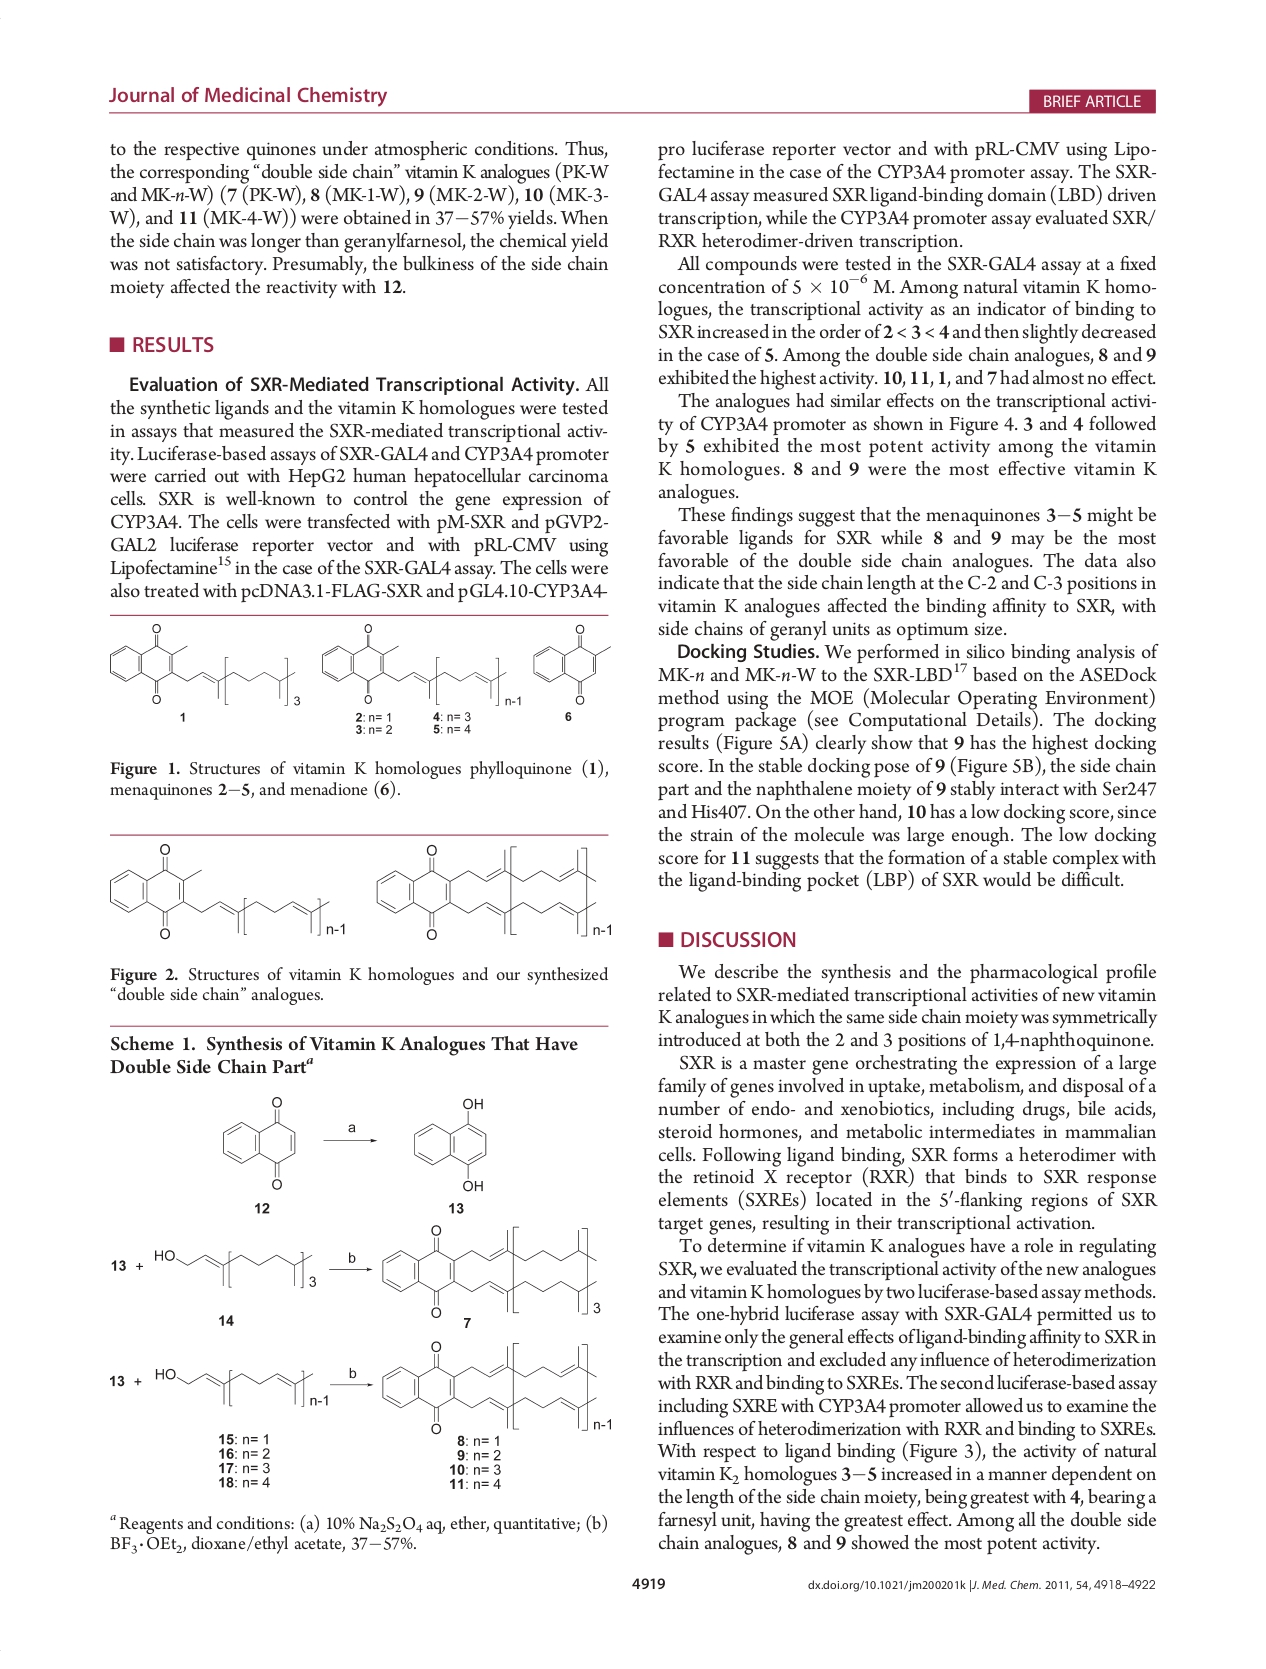exist_molecular: (106, 840, 351, 940), (372, 842, 616, 942), (380, 1337, 616, 1436), (376, 1220, 606, 1321), (318, 620, 525, 710), (106, 621, 303, 711), (150, 1239, 324, 1295), (150, 1359, 330, 1410), (217, 1088, 301, 1196), (412, 1094, 489, 1193), (531, 622, 612, 707)
